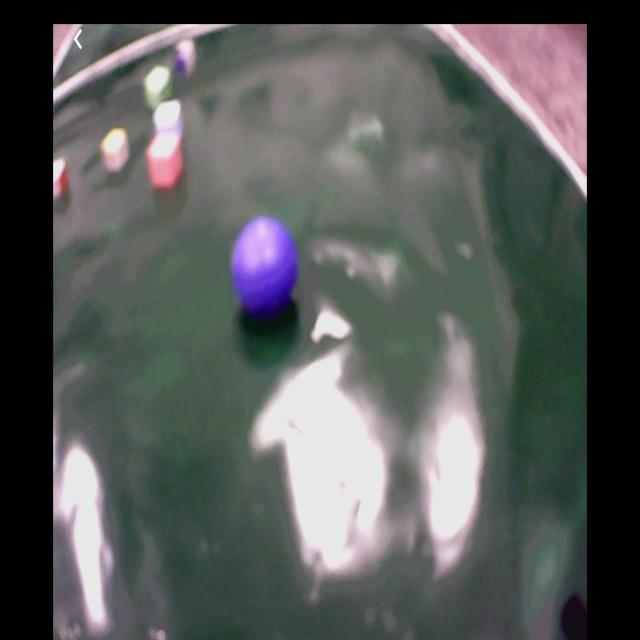ball: (233, 219, 299, 318)
